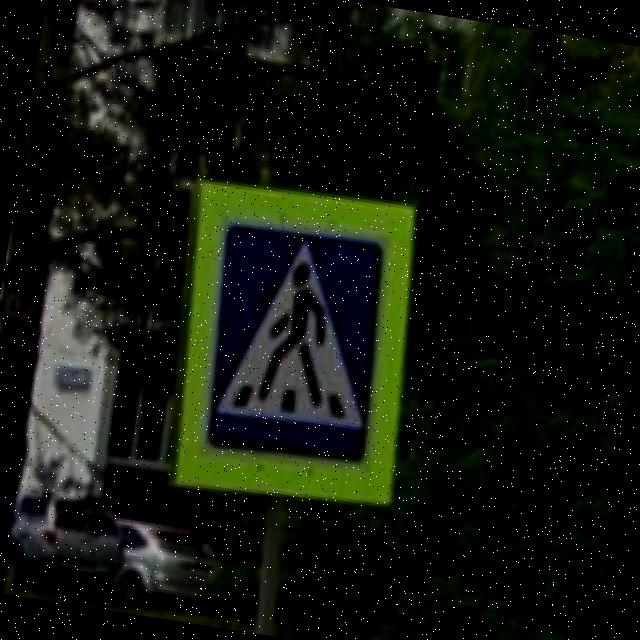Przejscie dla pieszych: (138, 166, 442, 526)
